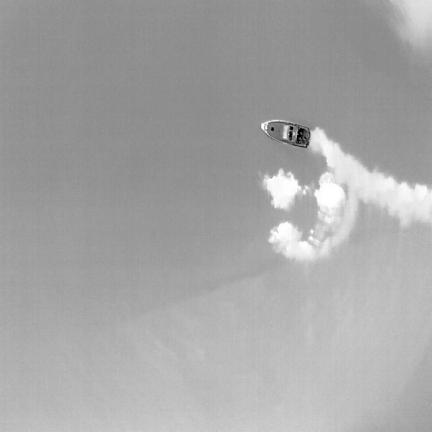flukeprints: (269, 222, 315, 259), (263, 169, 301, 210), (314, 173, 344, 214)
